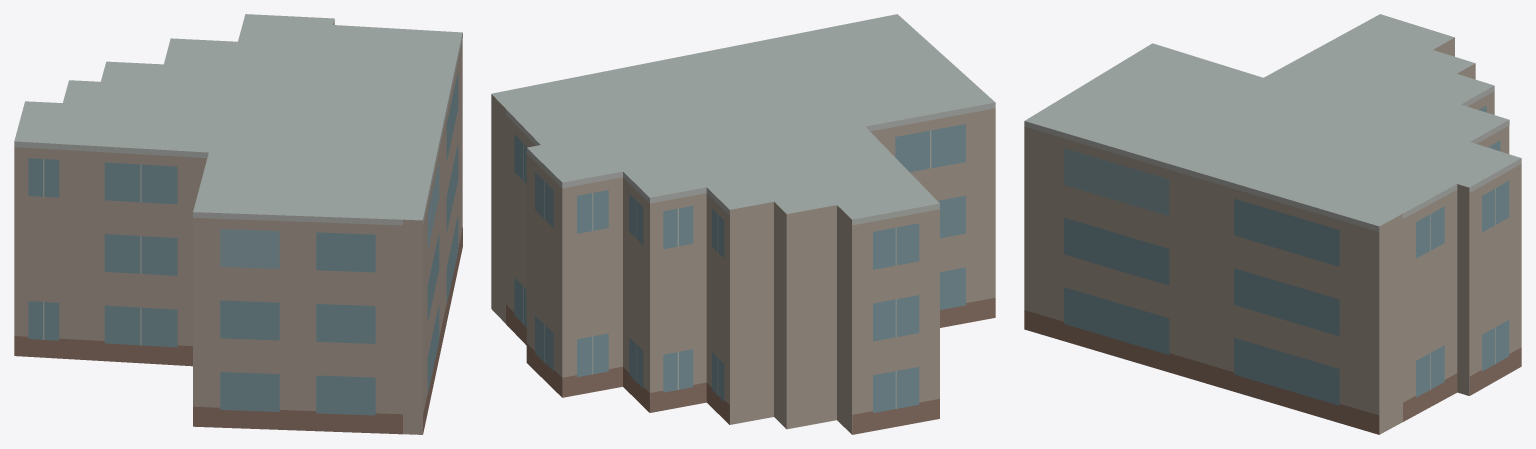
File: survey-upis-32776604.glb
The picture shows the model from 3 angles, left to right: view 1: azimuth 30°, elevation 25°; view 2: azimuth 150°, elevation 25°; view 3: azimuth 270°, elevation 25°; orthographic projection. The views are drawn at different scales.
Parts seen in each view (by area): view 1: survey-upis-32776604.tmp; view 2: survey-upis-32776604.tmp; view 3: survey-upis-32776604.tmp.
Boxes of the visible parts, box(x1,y1,x2,y2) form: survey-upis-32776604.tmp: box(14, 14, 462, 434); survey-upis-32776604.tmp: box(491, 14, 995, 434); survey-upis-32776604.tmp: box(1024, 14, 1521, 434).
Bounding box in the file's own units: 20.01 × 9.15 × 19.79.
